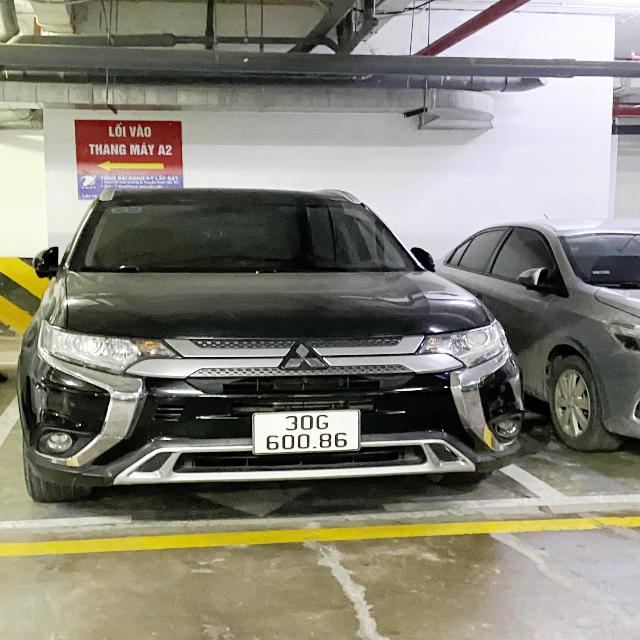license_plate: (251, 410, 364, 456)
